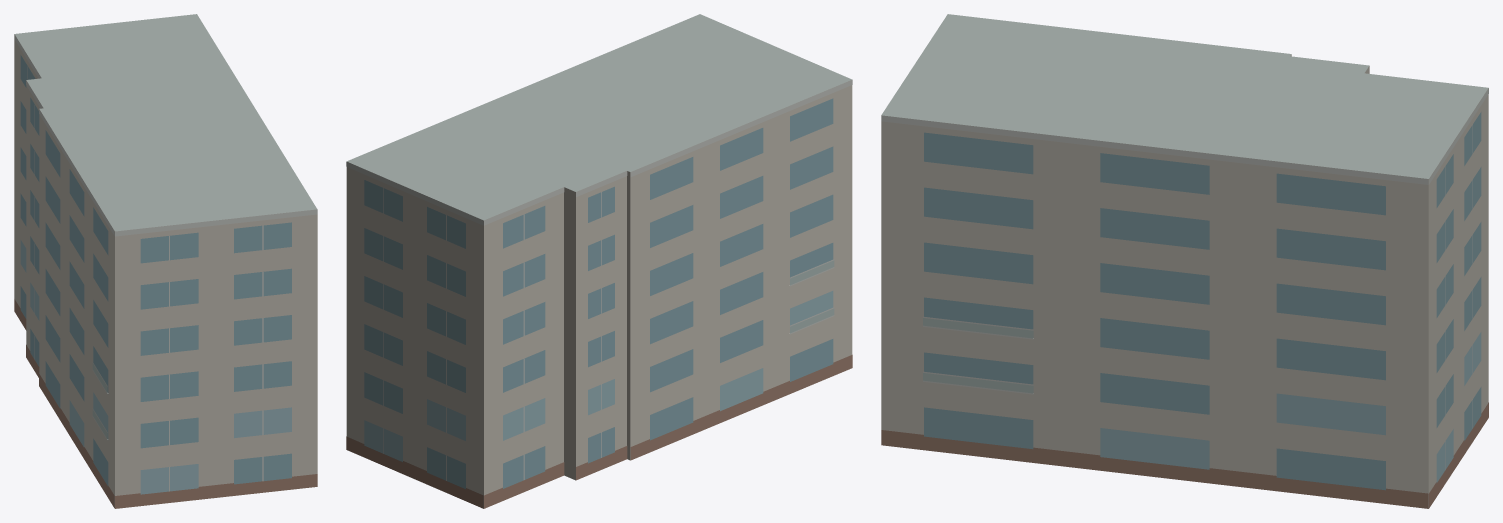
File: survey-upis-32946335.glb
3 views of the same model, side by side, from view 1: azimuth 30°, elevation 25°; view 2: azimuth 150°, elevation 25°; view 3: azimuth 270°, elevation 25° (orthographic). The views are drawn at different scales.
Visible parts, largest first — view 1: survey-upis-32946335.tmp; view 2: survey-upis-32946335.tmp; view 3: survey-upis-32946335.tmp.
Part boxes in pixels (x1,y1,x2,y2): survey-upis-32946335.tmp: (14, 14, 317, 508); survey-upis-32946335.tmp: (346, 14, 852, 508); survey-upis-32946335.tmp: (881, 14, 1488, 508).
Size of the model in its own units: 14.28 by 13.3 by 22.21.
